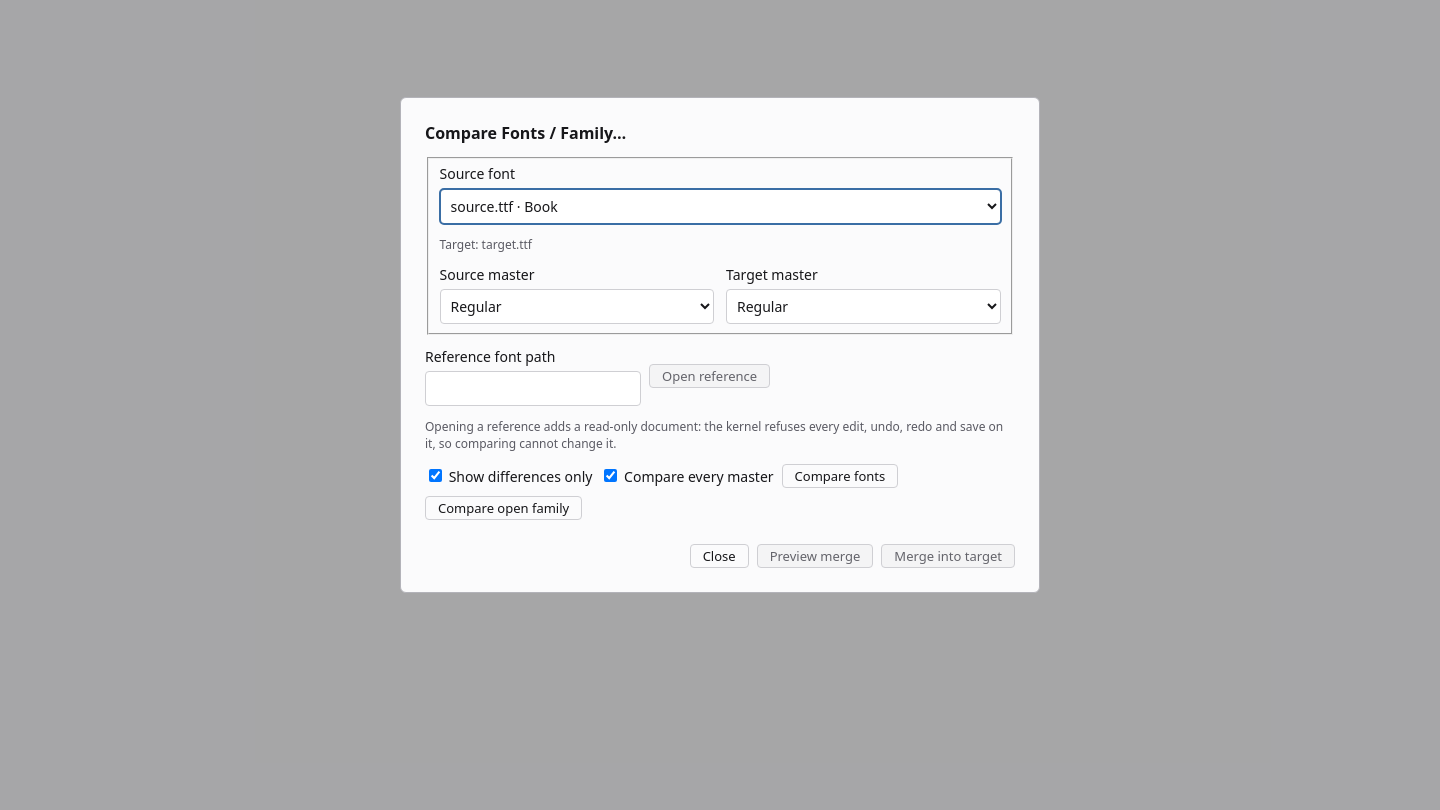
refuses to preview a merge with no resolution or adoption chosen
Click the button "Compare fonts": (840, 476) top-left (782, 464), bottom-right (898, 488)
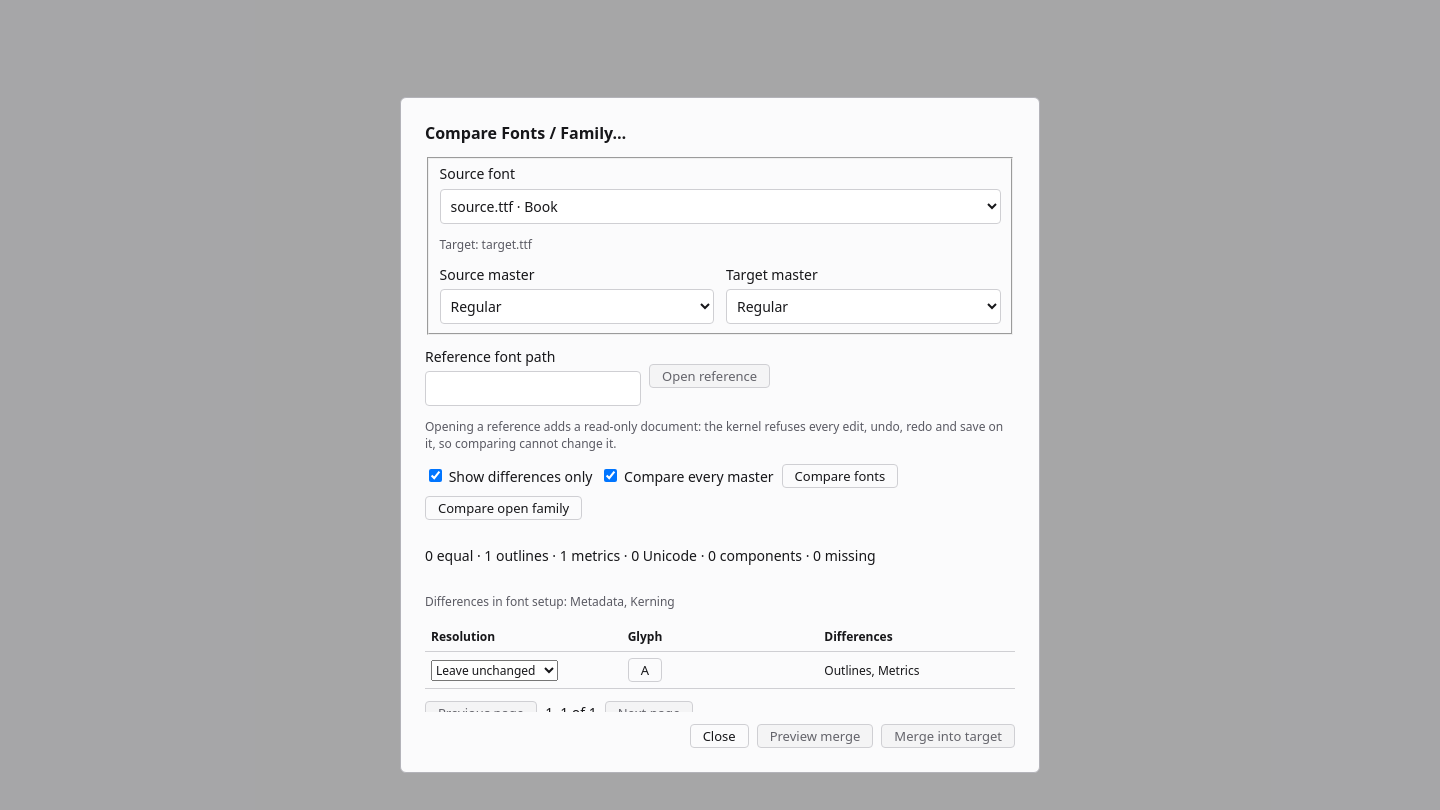
Expected: the button "Preview merge" is disabled, top-left (757, 724), bottom-right (873, 748)
Select "Keep this font" in the dropdown named "Resolve the conflict in A": (494, 670) top-left (431, 660), bottom-right (558, 681)
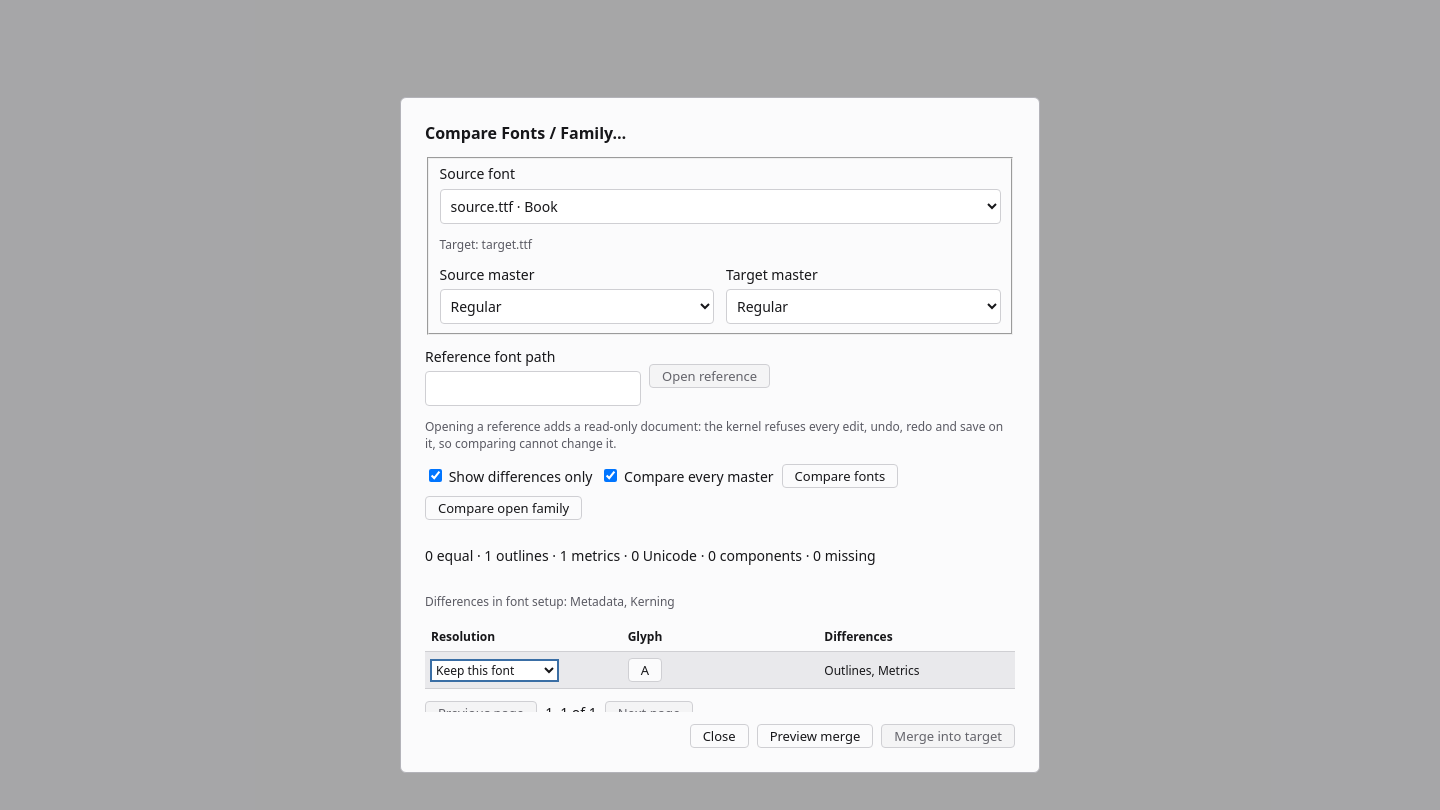
Result: the button "Preview merge" is enabled at top-left (757, 724), bottom-right (873, 748)
